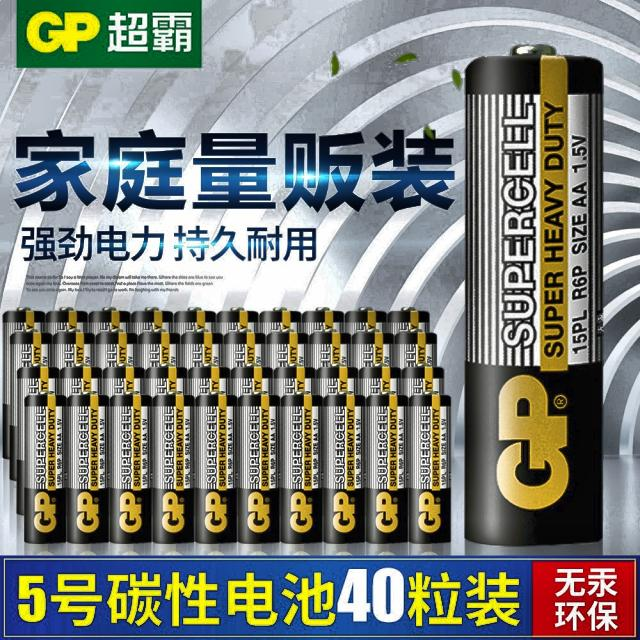Non-Valuable Waste - Batteries: (2, 309, 444, 504), (465, 46, 602, 545), (194, 394, 238, 544), (65, 394, 109, 544), (408, 394, 451, 544), (365, 394, 408, 544), (322, 394, 365, 544), (151, 394, 194, 543), (280, 394, 322, 544), (238, 394, 280, 544), (109, 394, 151, 542), (25, 394, 66, 544)
